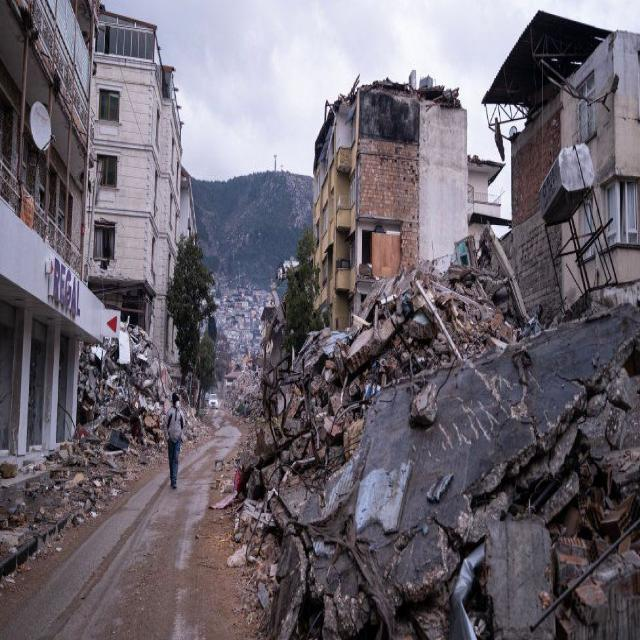Earthquake: (240, 124, 640, 640)
